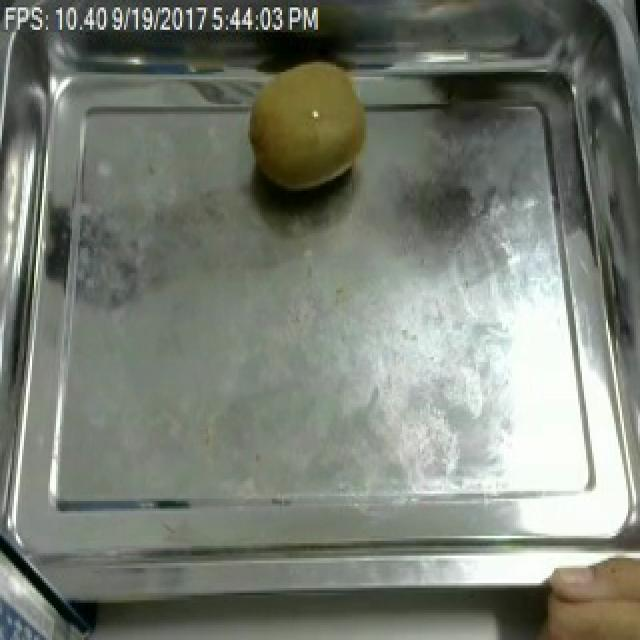Fruit: (242, 52, 378, 201), (514, 543, 640, 640)
